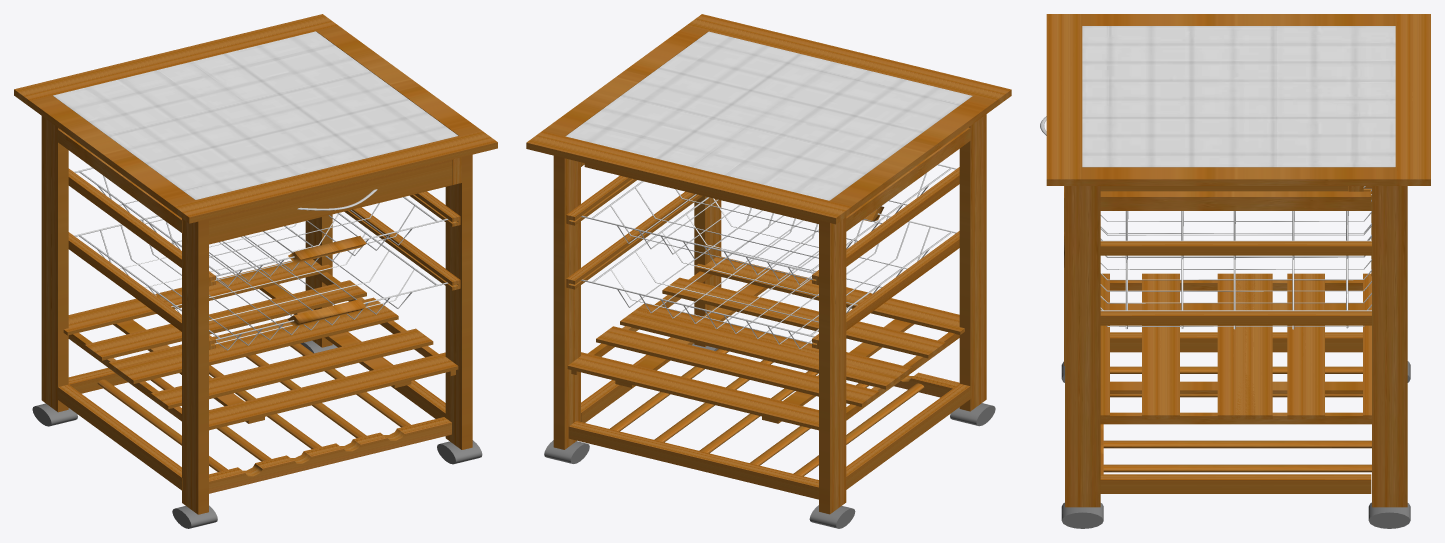
File: sh-contrib-desserte.glb
3 renders of one model, left to right at view 1: azimuth 30°, elevation 25°; view 2: azimuth 150°, elevation 25°; view 3: azimuth 270°, elevation 25°, orthographic. The views are drawn at different scales.
Visible parts, largest first — view 1: Cube_3_2_7_5, Cube_13_53_7, Tube_2_6_44_1, Cylinder_9_3_62_14, Tube_2_4_42_2; view 2: Cube_3_2_7_5, Cube_13_53_7, Tube_2_6_44_1, Cylinder_9_3_62_14, Tube_2_4_42_2; view 3: Cube_3_2_7_5, Cube_13_53_7, Tube_2_6_44_1, Cylinder_9_3_62_14, Tube_2_4_42_2.
Part boxes in pixels (x1,y1,x2,y2): Cube_3_2_7_5: (14,14,497,514); Cube_13_53_7: (53,31,458,199); Tube_2_6_44_1: (74,167,448,350); Cylinder_9_3_62_14: (32,340,482,528); Tube_2_4_42_2: (97,214,414,344); Cube_3_2_7_5: (526,14,1011,514); Cube_13_53_7: (565,31,972,200); Tube_2_6_44_1: (581,164,956,349); Cylinder_9_3_62_14: (544,343,995,528); Tube_2_4_42_2: (611,198,929,343); Cube_3_2_7_5: (1046,14,1430,507); Cube_13_53_7: (1082,26,1395,167); Tube_2_6_44_1: (1040,116,1371,326); Cylinder_9_3_62_14: (1061,361,1410,528); Tube_2_4_42_2: (1125,211,1348,329).
Bounding box in the file's own units: 1 × 1 × 1.
Materials: 5 (2 with a texture image).
